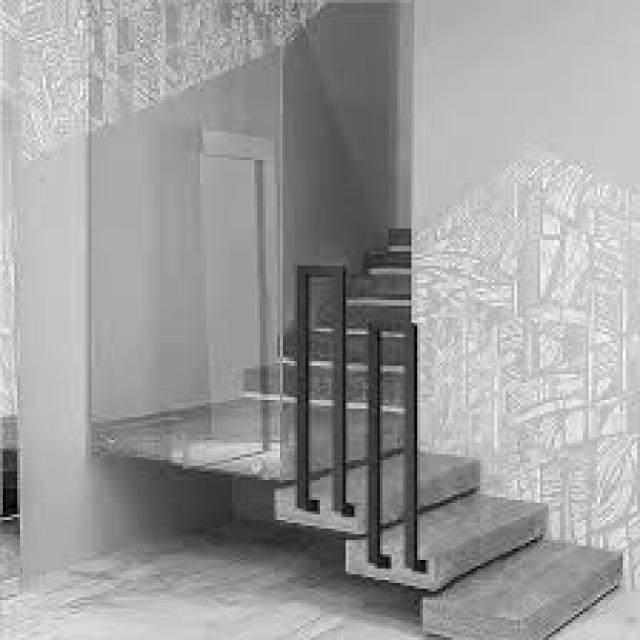stair: (278, 451, 622, 639)
